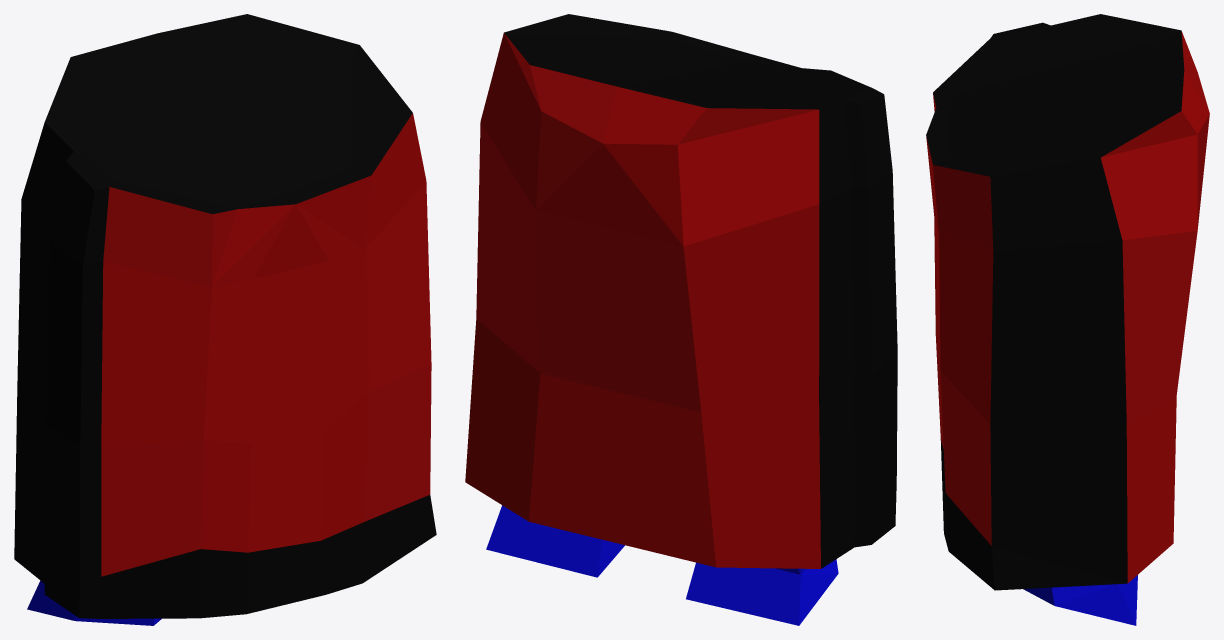
Rendered from Chr_Hips_Male_Static_08.fbx.
3 views of the same model, side by side, from view 1: azimuth 30°, elevation 25°; view 2: azimuth 150°, elevation 25°; view 3: azimuth 270°, elevation 25° (orthographic). The views are drawn at different scales.
Visible parts, largest first — view 1: Chr_Hips_Male_08; view 2: Chr_Hips_Male_08; view 3: Chr_Hips_Male_08.
Boxes of the visible parts, x1,y1,x2,y2 form: Chr_Hips_Male_08: (14,14,436,625); Chr_Hips_Male_08: (465,14,897,625); Chr_Hips_Male_08: (926,14,1209,625).
Size of the model in its own units: 40.85 by 55.45 by 29.4.
